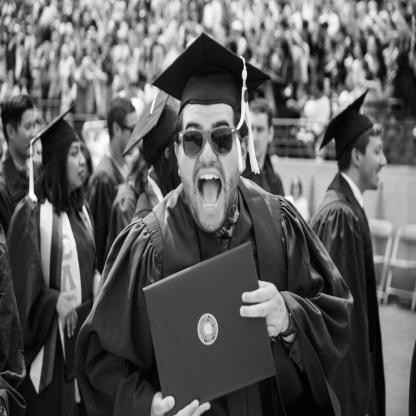board: (140, 235, 288, 412)
